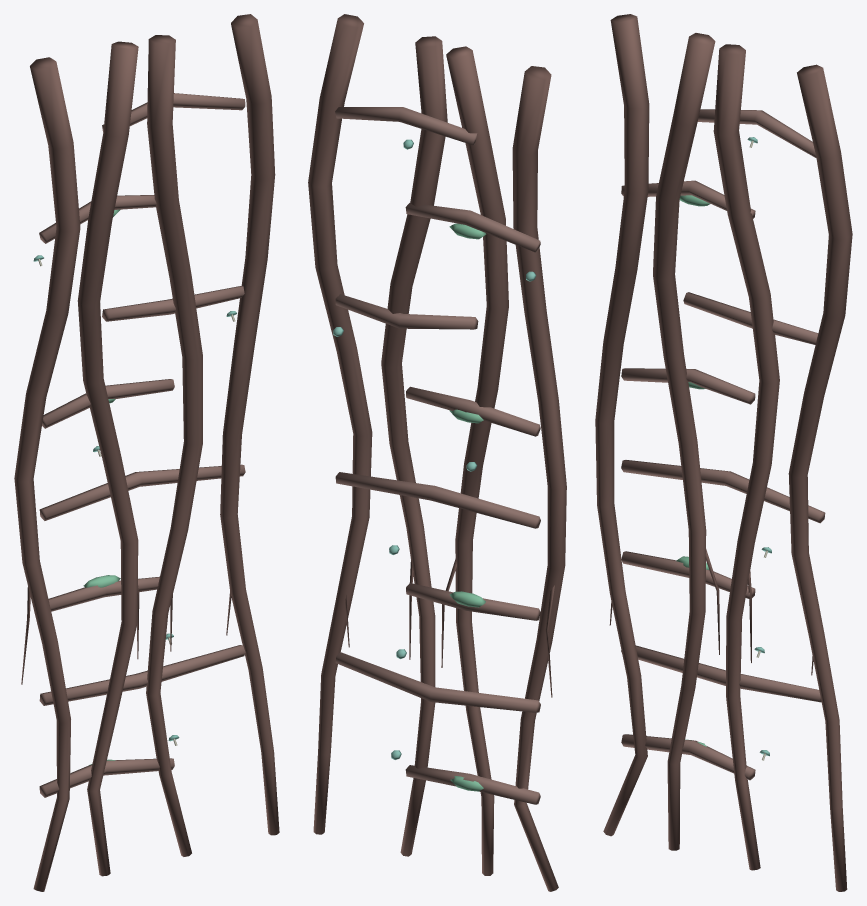
The model's file is climb_root_ladder.glb.
The picture shows the model from 3 angles, left to right: view 1: azimuth 30°, elevation 25°; view 2: azimuth 150°, elevation 25°; view 3: azimuth 330°, elevation 25°; orthographic projection.
Visible parts, largest first — view 1: climb_root_ladder; view 2: climb_root_ladder; view 3: climb_root_ladder.
Part boxes in pixels (<box>): climb_root_ladder: <box>14,14,279,891</box>; climb_root_ladder: <box>308,14,566,891</box>; climb_root_ladder: <box>595,14,852,891</box>.
Size of what is drawn, in the model's own units: 1.31 by 4.02 by 0.205.
